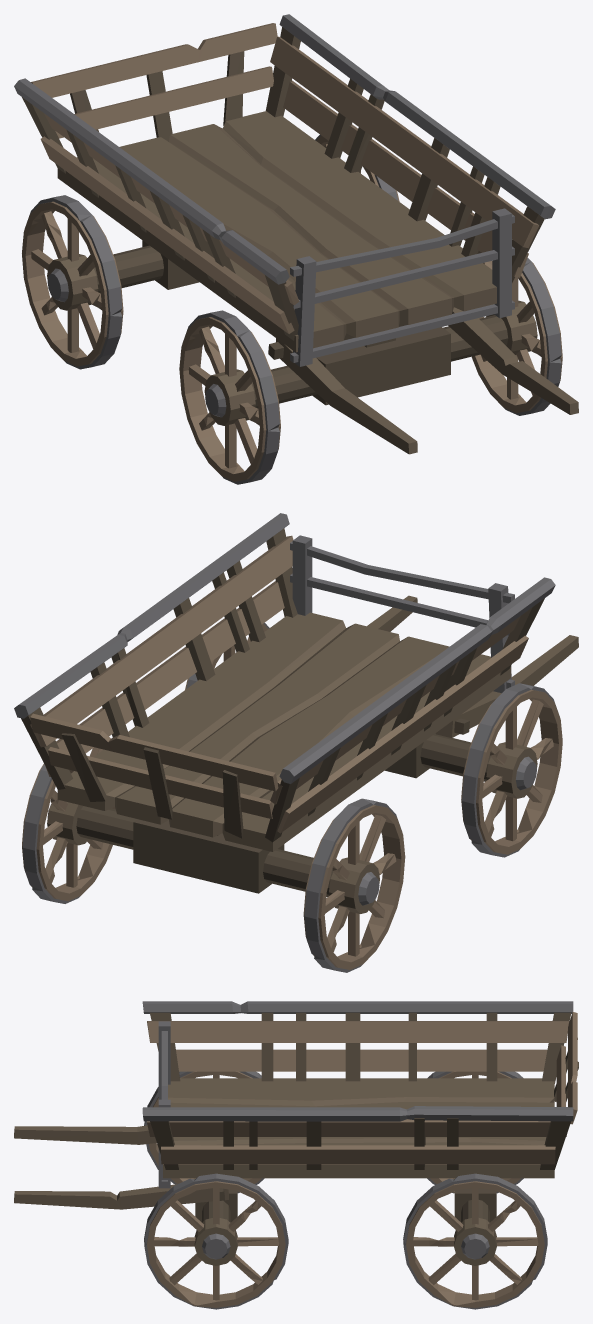
Rendered from SM_Prop_Cart_01.glb.
3 views of the same model, one above another, from view 1: azimuth 30°, elevation 25°; view 2: azimuth 150°, elevation 25°; view 3: azimuth 270°, elevation 25° (orthographic). The views are drawn at different scales.
Parts seen in each view (by area): view 1: SM_Prop_Cart_01_part00; view 2: SM_Prop_Cart_01_part00; view 3: SM_Prop_Cart_01_part00.
Part boxes in pixels (bbox=[...]): SM_Prop_Cart_01_part00: bbox=[14, 14, 578, 484]; SM_Prop_Cart_01_part00: bbox=[14, 513, 578, 972]; SM_Prop_Cart_01_part00: bbox=[14, 1001, 578, 1309].
Size of the model in its own units: 2.13 by 1.51 by 3.97.
Materials: 1 (1 with a texture image).
